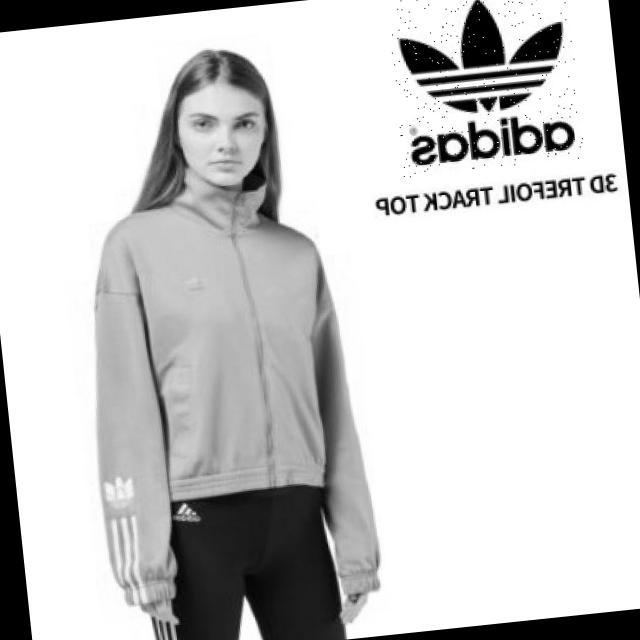Adidas: (385, 0, 584, 177)
